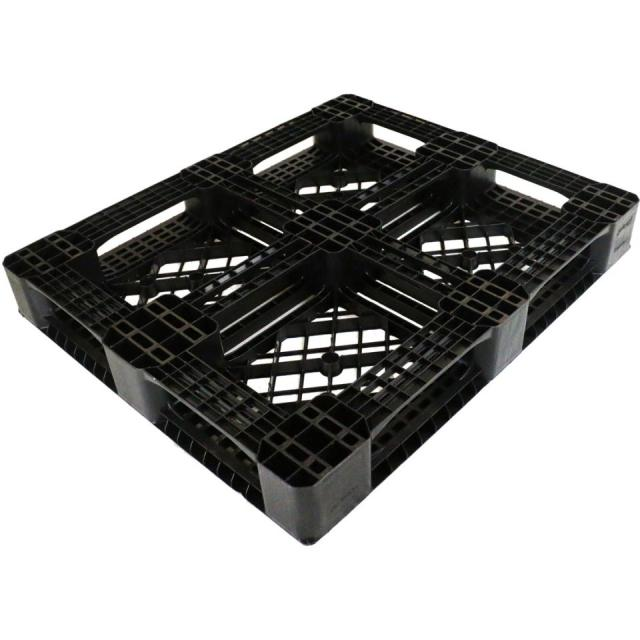non-igps: (0, 88, 640, 552)
